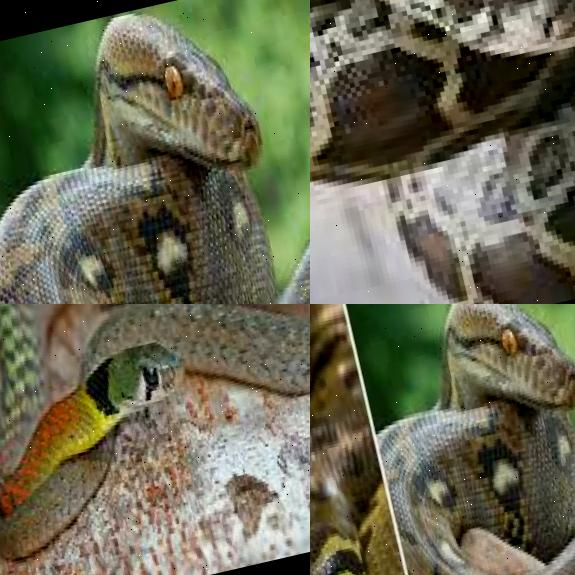snake: (0, 0, 310, 304), (310, 0, 575, 304), (0, 304, 310, 561), (361, 304, 575, 575)
